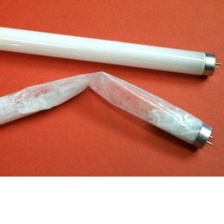light_bulb: (0, 67, 220, 156), (0, 21, 223, 86)
